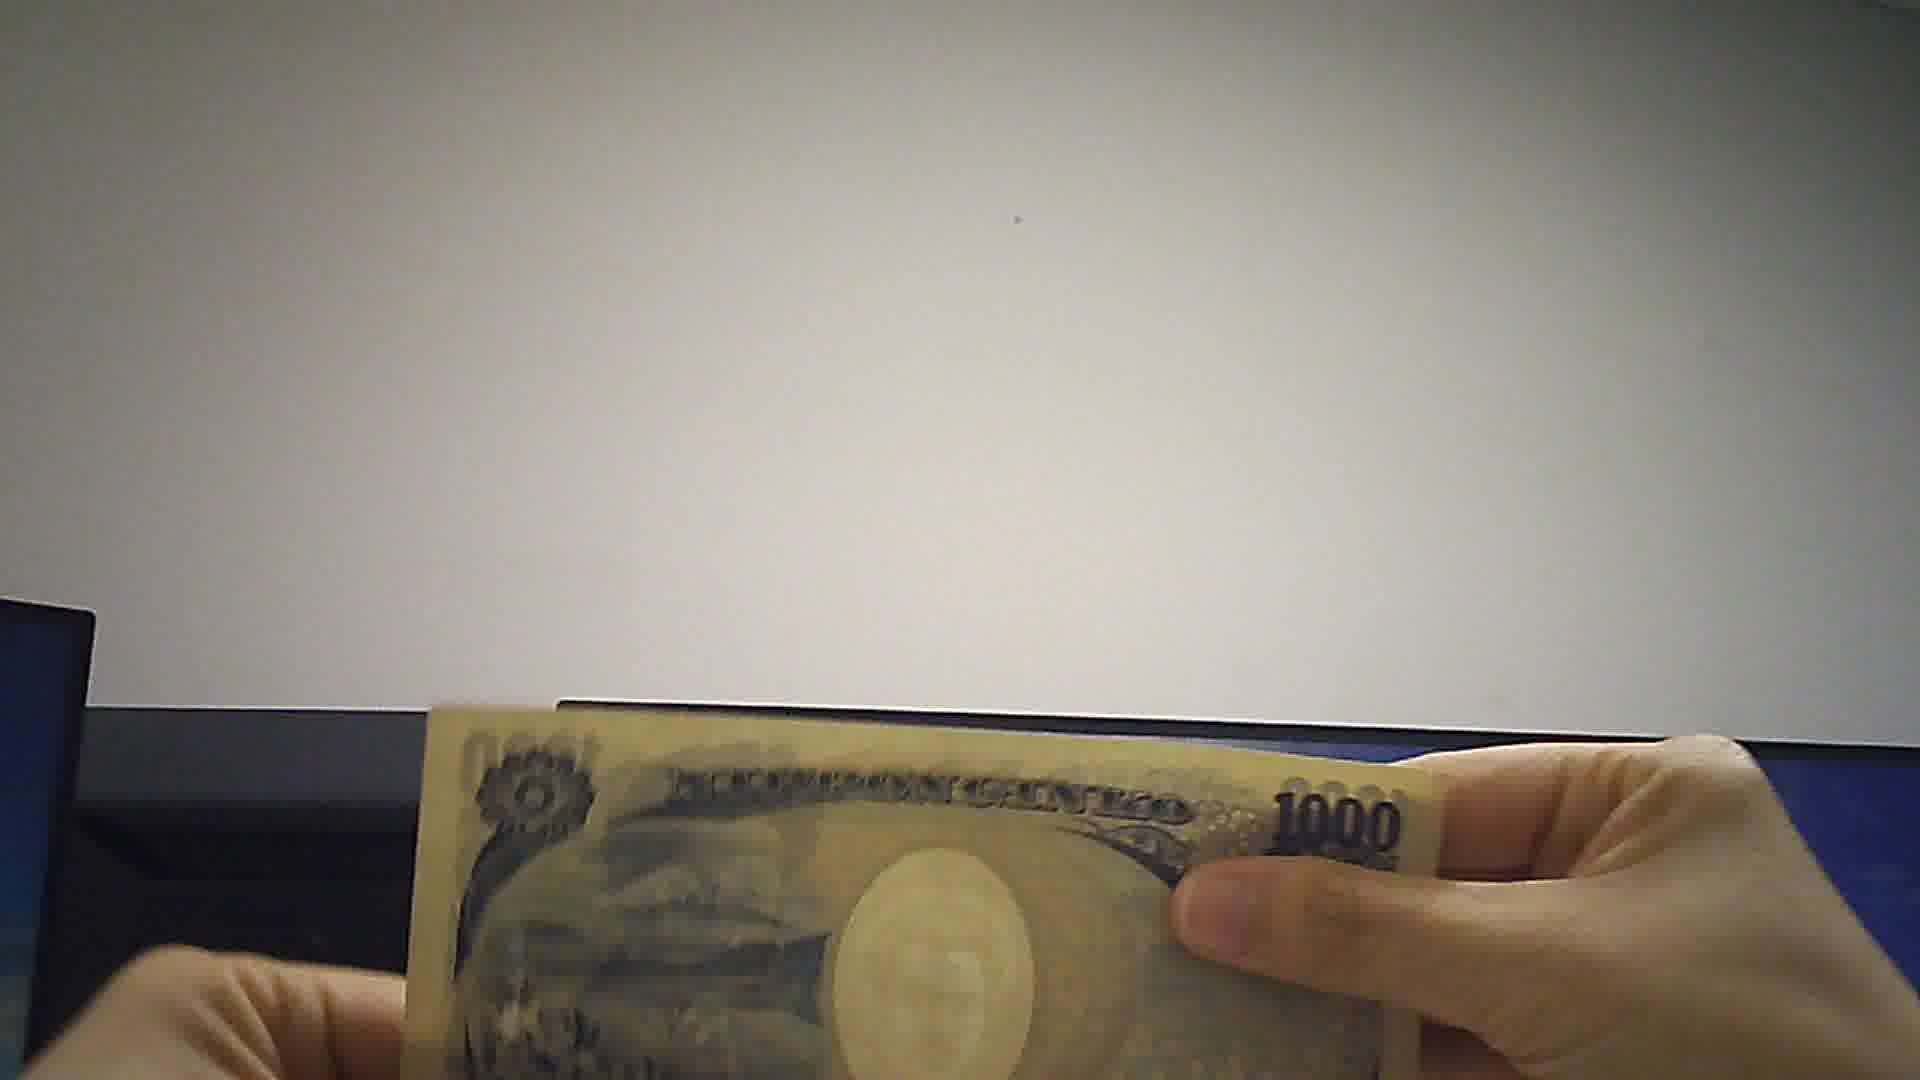1,000 Yen: (401, 694, 1458, 1073)
